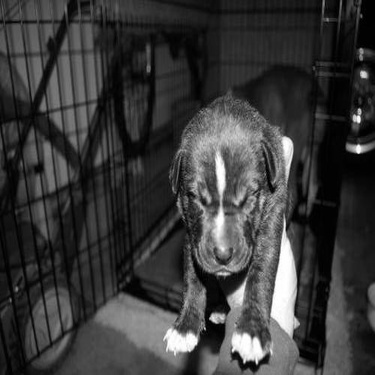dog: (144, 90, 301, 368), (140, 59, 337, 218)
